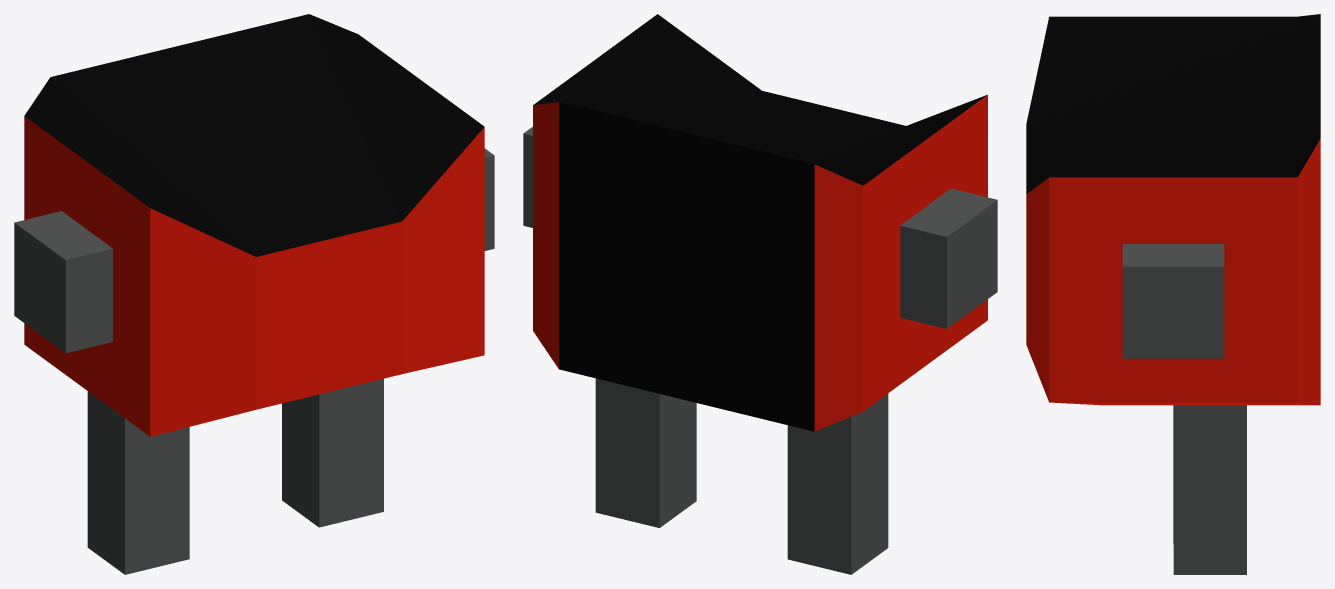
Rendered from Klignik Model.fbx.
The picture shows the model from 3 angles, left to right: view 1: azimuth 30°, elevation 25°; view 2: azimuth 150°, elevation 25°; view 3: azimuth 270°, elevation 25°; orthographic projection.
Visible parts, largest first — view 1: Cube; view 2: Cube; view 3: Cube.
Part boxes in pixels (x1=…): Cube: x1=14, y1=14, x2=494, y2=574; Cube: x1=523, y1=14, x2=997, y2=574; Cube: x1=1026, y1=14, x2=1320, y2=574.
Size of the model in its own units: 332 by 327 by 200.
